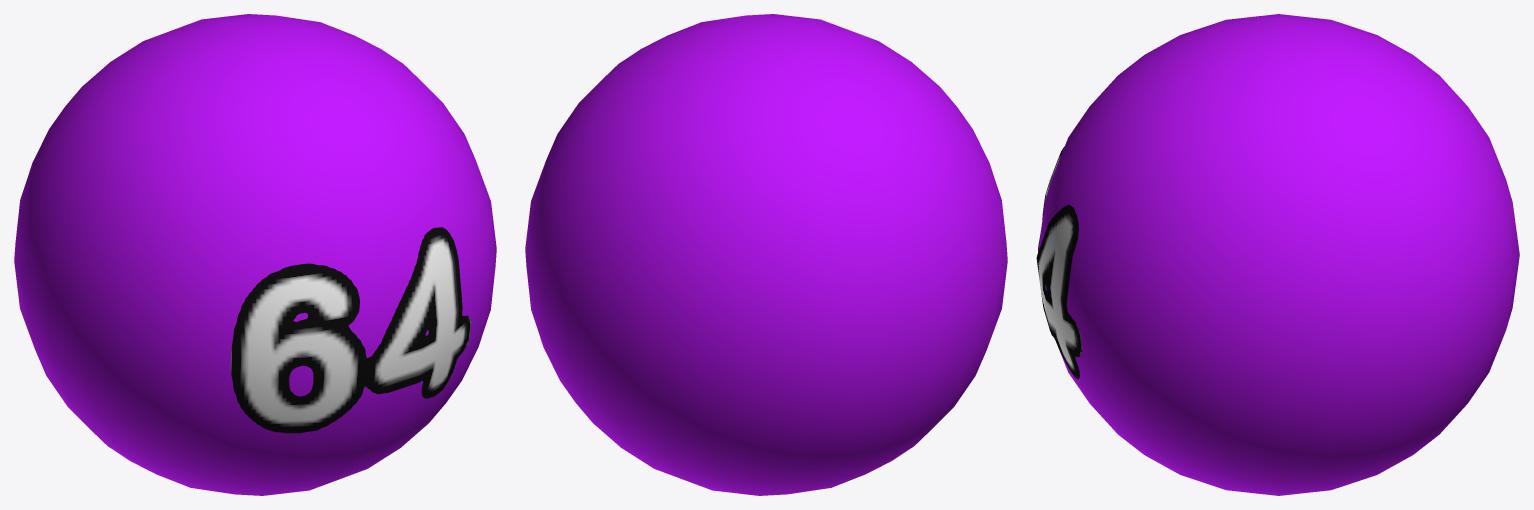
File: Ball 64.fbx
The picture shows the model from 3 angles, left to right: view 1: azimuth 30°, elevation 25°; view 2: azimuth 150°, elevation 25°; view 3: azimuth 270°, elevation 25°; orthographic projection.
Parts seen in each view (by area): view 1: Ball 64; view 2: Ball 64; view 3: Ball 64.
Boxes of the visible parts, box(x1,y1,x2,y2) form: Ball 64: box(14, 14, 496, 495); Ball 64: box(525, 14, 1007, 495); Ball 64: box(1036, 14, 1519, 495).
Bounding box in the file's own units: 164 × 164 × 164.
